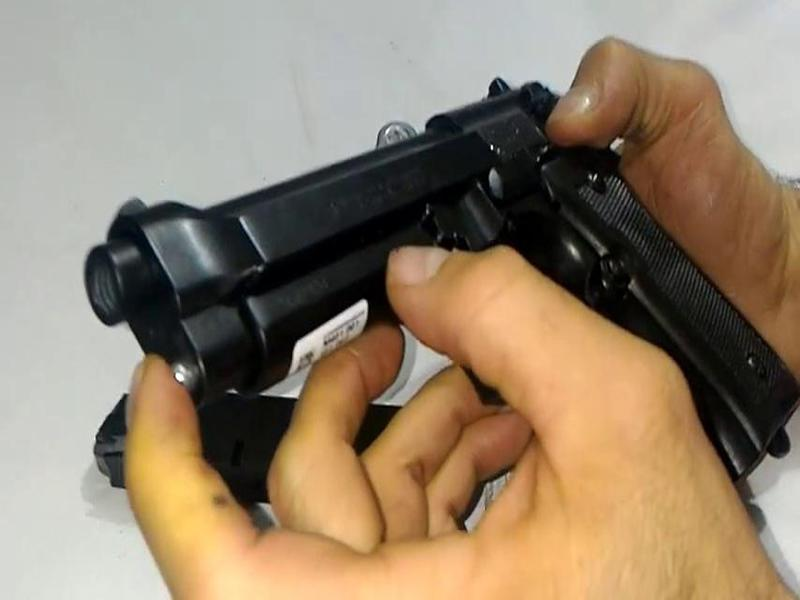Pistola: (78, 58, 800, 495)
